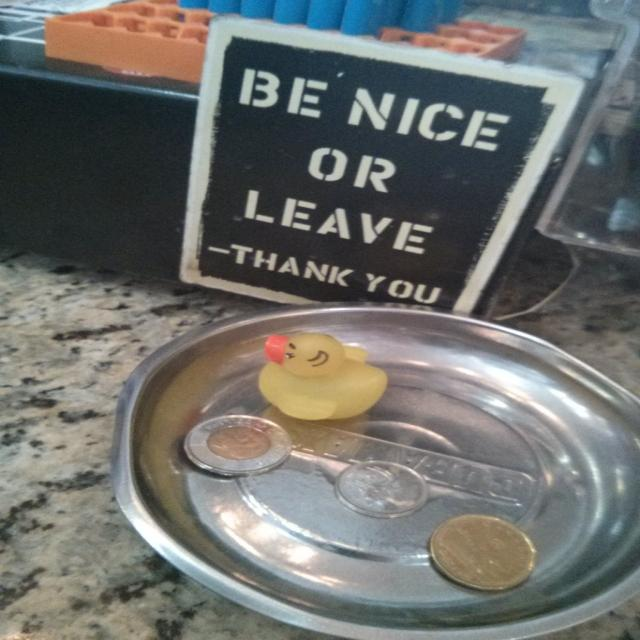Coin: (426, 512, 541, 591), (173, 411, 295, 475), (334, 464, 429, 517)
